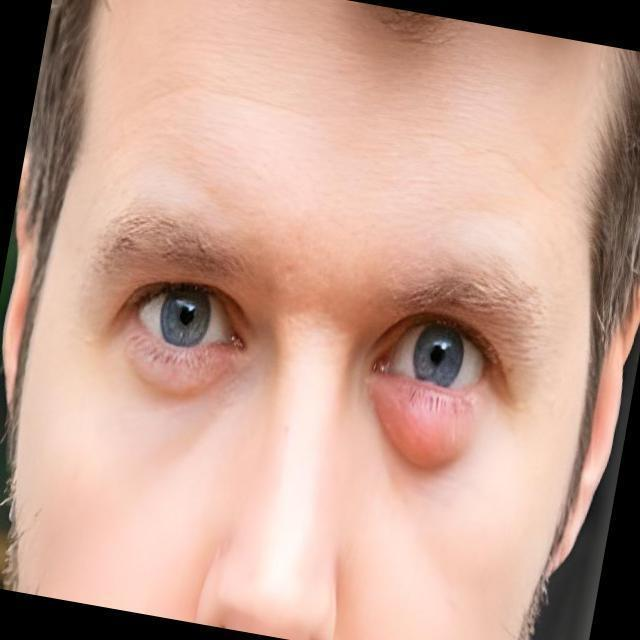Stye: (358, 356, 516, 498)
